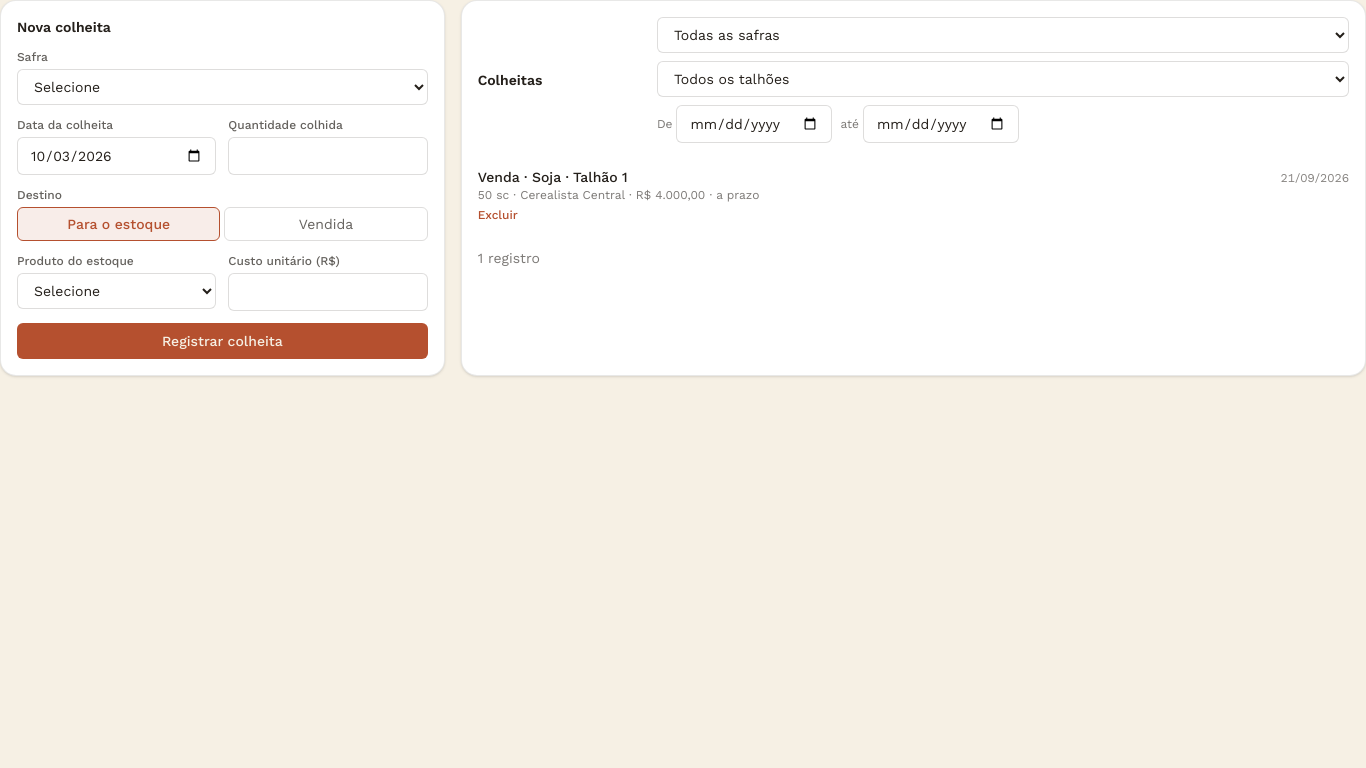
Test: CropHarvestsTab › exclui uma colheita vendida a prazo, avisando sobre as parcelas
Expected: the text "Venda · Soja · Talhão 1" is shown, [478,167,628,187]
Click the button "Excluir". click: (498, 215)
box: [478,207,518,223]
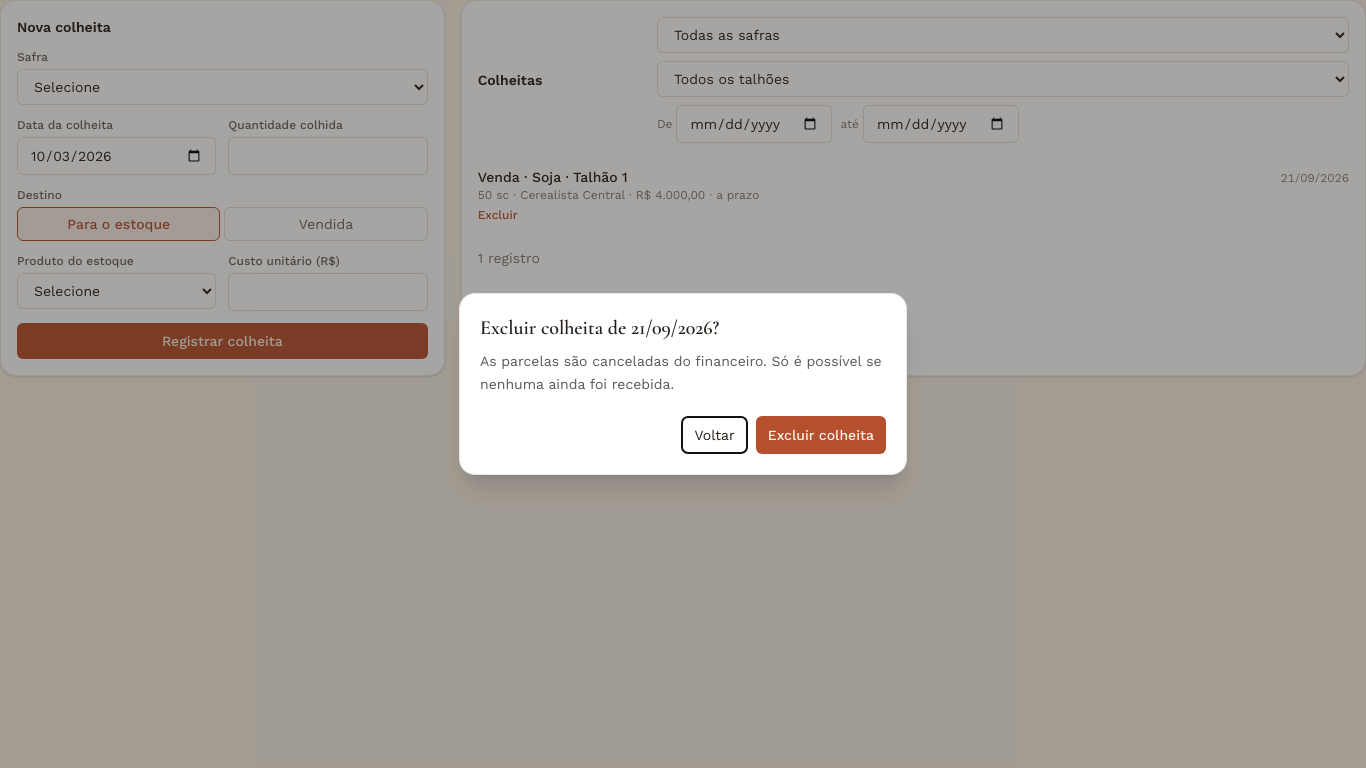
Now the text "As parcelas são canceladas do financeiro" is shown, box [480,353,882,392]
